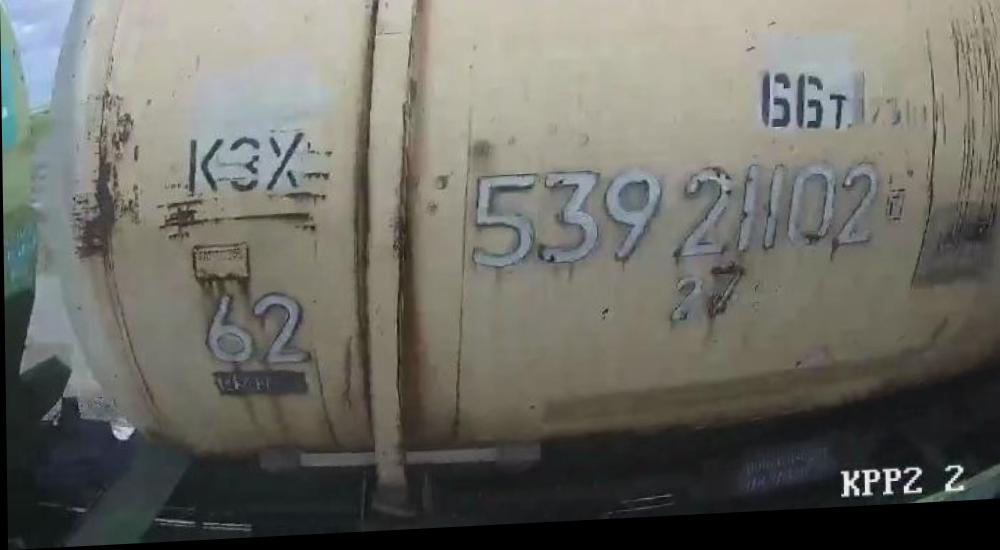Wagon-number: (464, 160, 887, 282)
